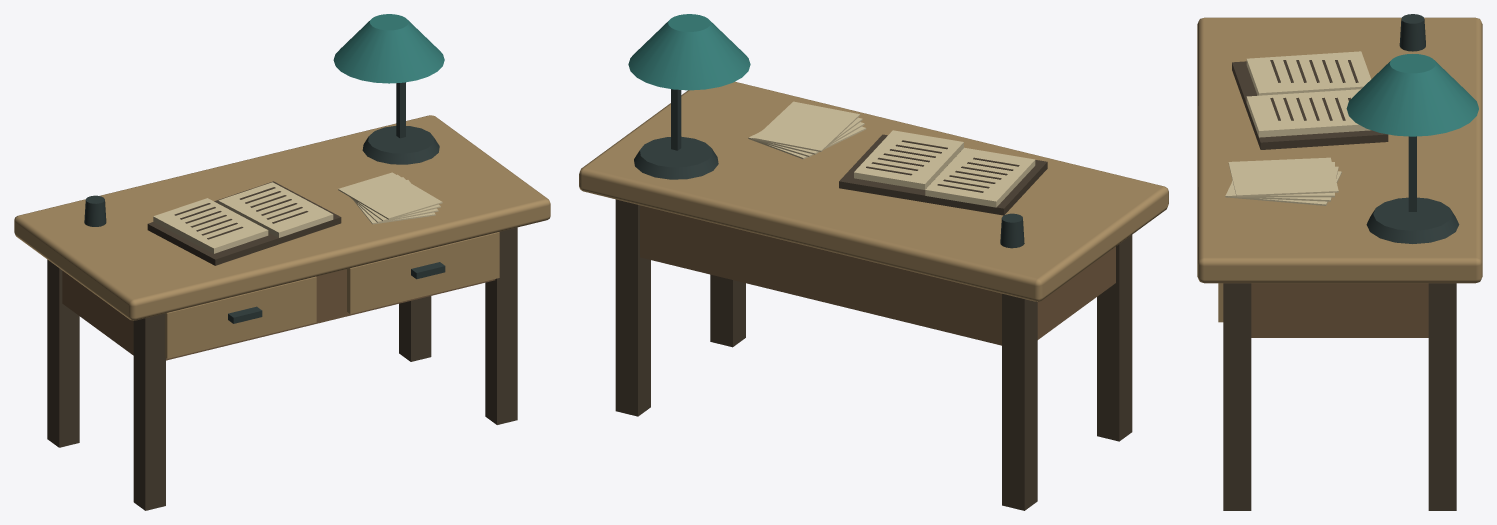
File: SM_EvidenceDesk_01.glb
3 renders of one model, left to right at view 1: azimuth 30°, elevation 25°; view 2: azimuth 150°, elevation 25°; view 3: azimuth 270°, elevation 25°, orthographic. The views are drawn at different scales.
Parts seen in each view (by area): view 1: SM_EvidenceDesk_01_M_DH_woodLight, SM_EvidenceDesk_01_M_DH_woodDark, SM_EvidenceDesk_01_M_DH_paper, SM_EvidenceDesk_01_M_DH_teal, SM_EvidenceDesk_01_M_DH_wood, SM_EvidenceDesk_01_M_DH_iron (×2); view 2: SM_EvidenceDesk_01_M_DH_woodLight, SM_EvidenceDesk_01_M_DH_woodDark, SM_EvidenceDesk_01_M_DH_wood, SM_EvidenceDesk_01_M_DH_paper, SM_EvidenceDesk_01_M_DH_teal, SM_EvidenceDesk_01_M_DH_iron (×2); view 3: SM_EvidenceDesk_01_M_DH_woodLight, SM_EvidenceDesk_01_M_DH_woodDark, SM_EvidenceDesk_01_M_DH_paper, SM_EvidenceDesk_01_M_DH_wood, SM_EvidenceDesk_01_M_DH_teal, SM_EvidenceDesk_01_M_DH_iron (×2).
Part boxes in pixels (<box>): SM_EvidenceDesk_01_M_DH_woodLight: <box>14,115,550,358</box>; SM_EvidenceDesk_01_M_DH_woodDark: <box>47,181,517,510</box>; SM_EvidenceDesk_01_M_DH_paper: <box>153,172,442,253</box>; SM_EvidenceDesk_01_M_DH_teal: <box>333,14,444,83</box>; SM_EvidenceDesk_01_M_DH_wood: <box>62,269,495,360</box>; SM_EvidenceDesk_01_M_DH_iron (×2): <box>84,82,445,323</box>; SM_EvidenceDesk_01_M_DH_woodLight: <box>579,81,1168,301</box>; SM_EvidenceDesk_01_M_DH_woodDark: <box>615,134,1132,510</box>; SM_EvidenceDesk_01_M_DH_wood: <box>640,205,1115,345</box>; SM_EvidenceDesk_01_M_DH_paper: <box>748,101,1035,207</box>; SM_EvidenceDesk_01_M_DH_teal: <box>628,14,750,90</box>; SM_EvidenceDesk_01_M_DH_iron (×2): <box>634,89,1024,248</box>; SM_EvidenceDesk_01_M_DH_woodLight: <box>1197,17,1482,322</box>; SM_EvidenceDesk_01_M_DH_woodDark: <box>1223,60,1456,510</box>; SM_EvidenceDesk_01_M_DH_paper: <box>1225,51,1371,205</box>; SM_EvidenceDesk_01_M_DH_wood: <box>1251,283,1428,337</box>; SM_EvidenceDesk_01_M_DH_teal: <box>1346,54,1478,136</box>; SM_EvidenceDesk_01_M_DH_iron (×2): <box>1366,14,1459,243</box>.
Size of the model in its own units: 1.75 by 1.39 by 0.86.
